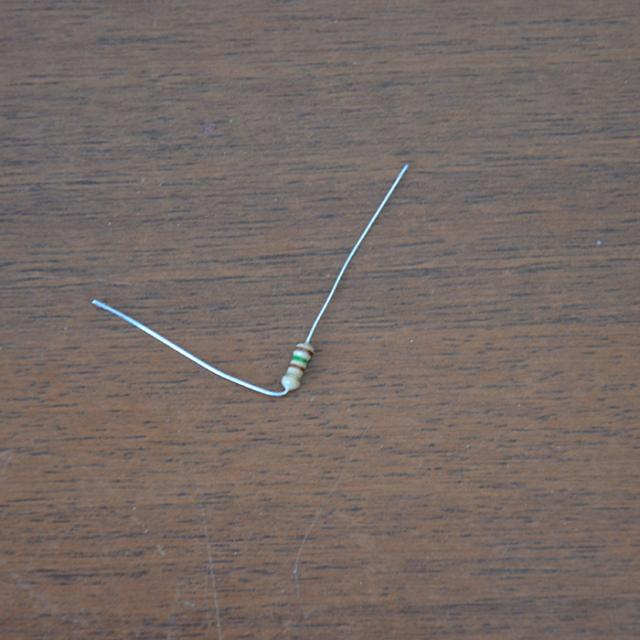brown: (295, 346, 312, 356), (289, 363, 304, 371)
gold: (284, 372, 302, 382)
green: (292, 354, 309, 362)
resistor: (272, 334, 327, 398)
